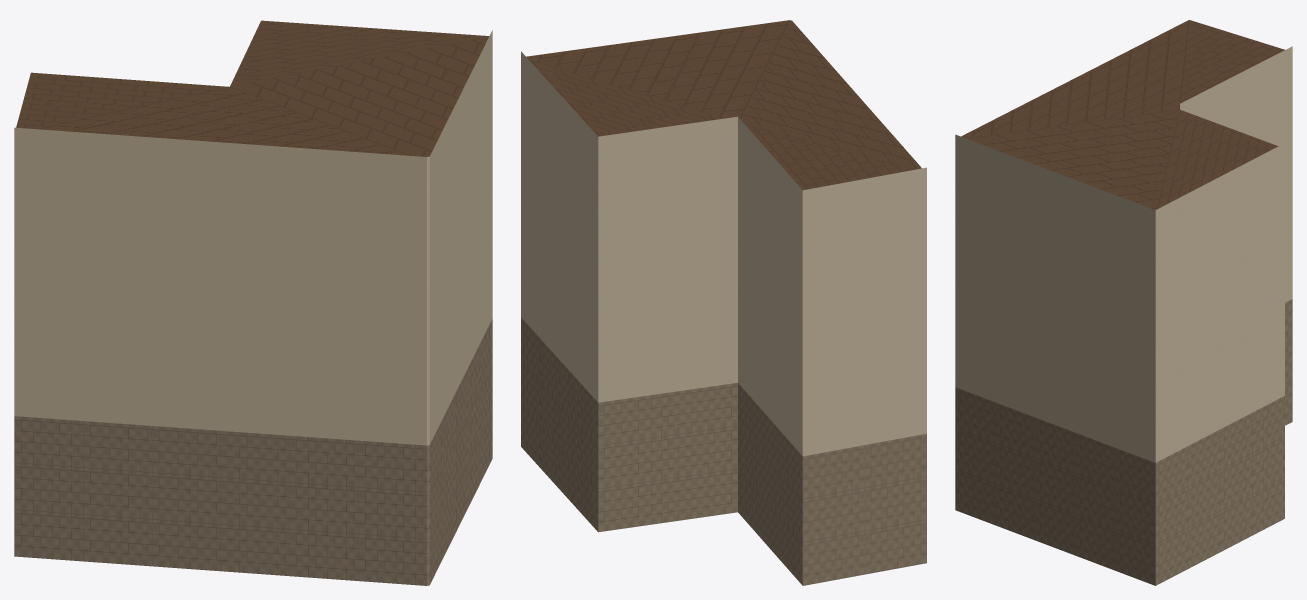
Rendered from bld_c15_25_396.gltf.
3 views of the same model, side by side, from view 1: azimuth 30°, elevation 25°; view 2: azimuth 150°, elevation 25°; view 3: azimuth 270°, elevation 25° (orthographic). The views are drawn at different scales.
Visible parts, largest first — view 1: bld_c15_25_396; view 2: bld_c15_25_396; view 3: bld_c15_25_396.
Part boxes in pixels (box(x1,y1,x2,y2)): bld_c15_25_396: box(14, 20, 492, 585); bld_c15_25_396: box(521, 20, 926, 585); bld_c15_25_396: box(955, 20, 1292, 585).
Size of the model in its own units: 17.45 by 15.58 by 12.67.
4 materials, 4 textured.
